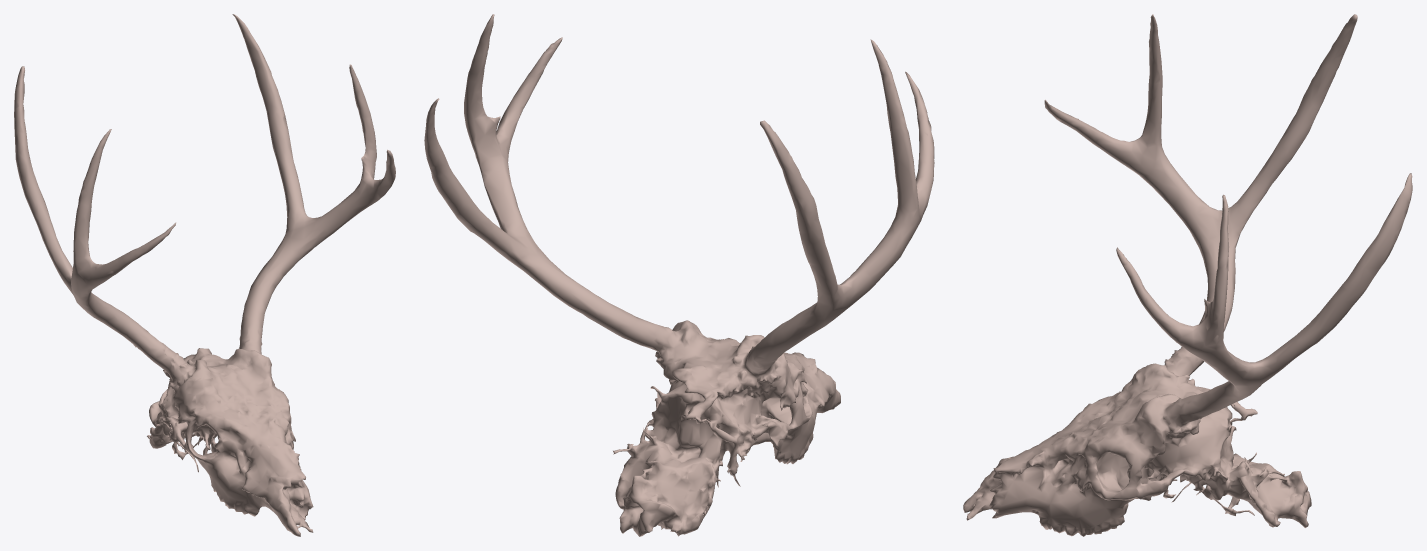
Rendered from Mesh_Skull_01.FBX.
3 views of the same model, side by side, from view 1: azimuth 30°, elevation 25°; view 2: azimuth 150°, elevation 25°; view 3: azimuth 270°, elevation 25° (orthographic). The views are drawn at different scales.
Parts seen in each view (by area): view 1: MESH_LOD0; view 2: MESH_LOD0; view 3: MESH_LOD0.
Part boxes in pixels (x1,y1,x2,y2): MESH_LOD0: (14, 14, 395, 536); MESH_LOD0: (424, 14, 934, 536); MESH_LOD0: (963, 14, 1412, 536).
Size of what is drawn, in the model's own units: 31.95 by 35.07 by 32.27.
